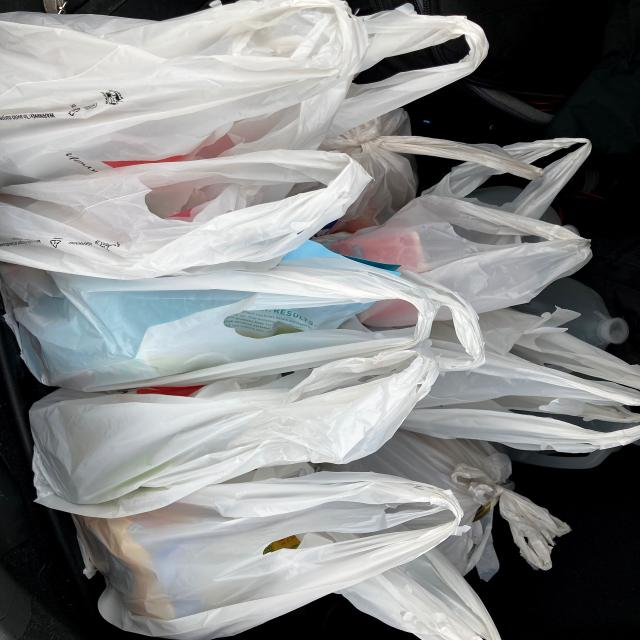Single-layer Plastic: (0, 241, 485, 391), (30, 350, 438, 518), (0, 0, 368, 186), (75, 471, 461, 640), (0, 150, 371, 279), (331, 139, 592, 312), (326, 430, 570, 580), (401, 309, 640, 452), (319, 109, 543, 232), (326, 4, 488, 139), (338, 549, 502, 640)
